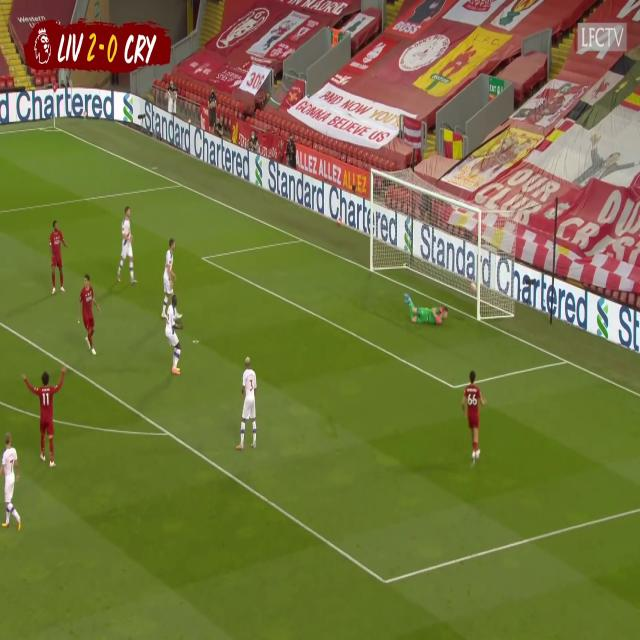ball: (471, 276, 478, 294)
team2: (3, 438, 23, 534), (161, 234, 181, 322), (239, 359, 257, 454), (161, 296, 183, 370), (118, 205, 137, 288)
